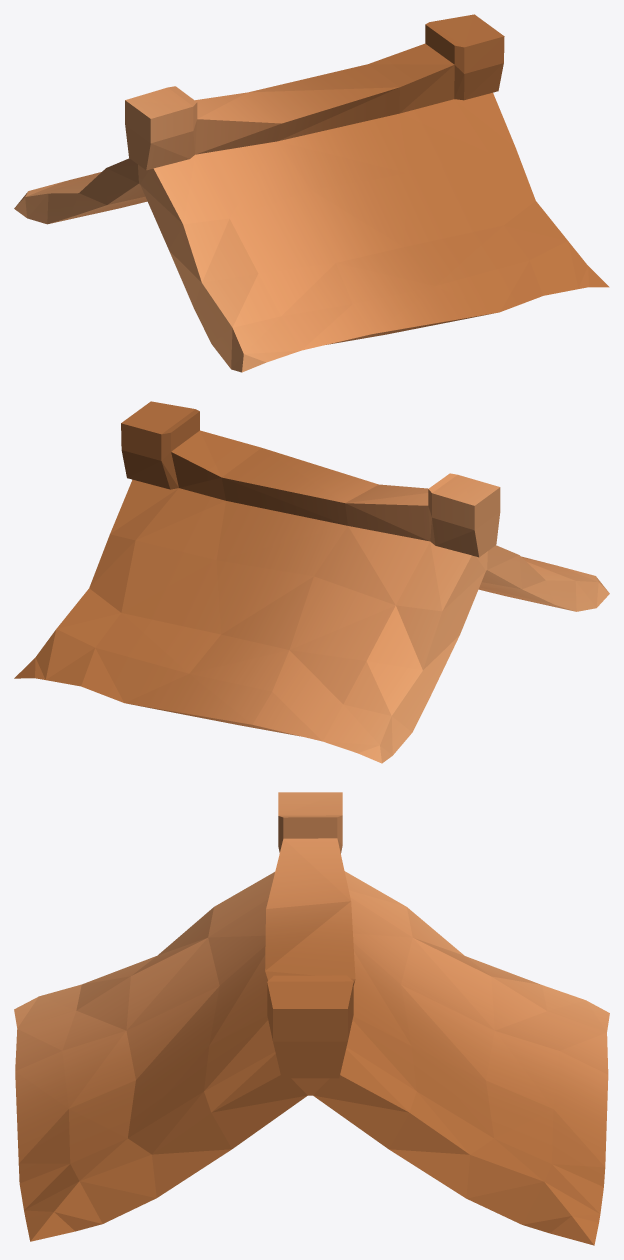
File: House_4x4_RoofOnly.fbx
3 views of the same model, one above another, from view 1: azimuth 30°, elevation 25°; view 2: azimuth 150°, elevation 25°; view 3: azimuth 270°, elevation 25° (orthographic). The views are drawn at different scales.
Parts seen in each view (by area): view 1: House_4x4_RoofOnly; view 2: House_4x4_RoofOnly; view 3: House_4x4_RoofOnly.
Part boxes in pixels (box(x1,y1,x2,y2)): House_4x4_RoofOnly: box(14, 14, 609, 372); House_4x4_RoofOnly: box(14, 401, 609, 763); House_4x4_RoofOnly: box(14, 792, 609, 1245).
Bounding box in the file's own units: 5.04 × 2.49 × 5.63.
1 material, 1 textured.
